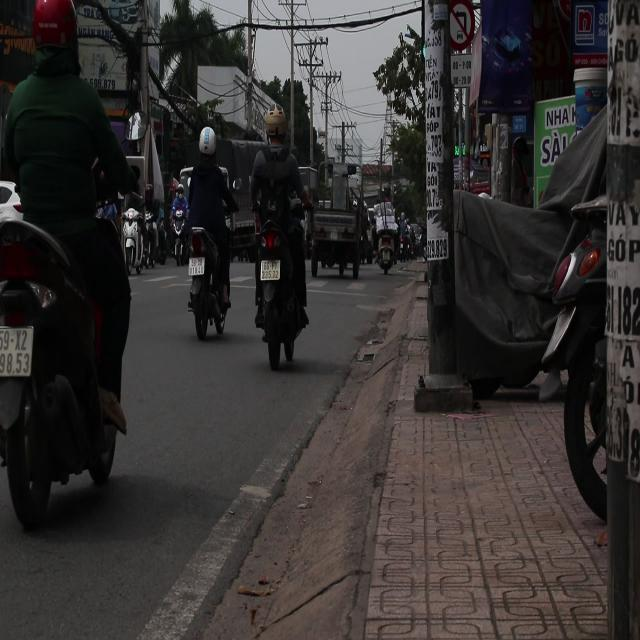motorbike: (0, 175, 118, 511), (252, 203, 308, 381), (188, 224, 234, 341), (372, 211, 404, 294), (161, 194, 192, 268), (119, 205, 149, 274)
